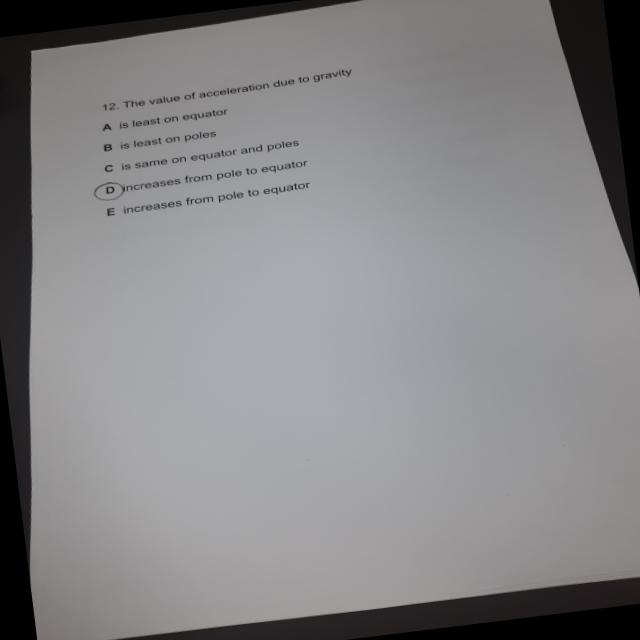D: (90, 178, 131, 204)
